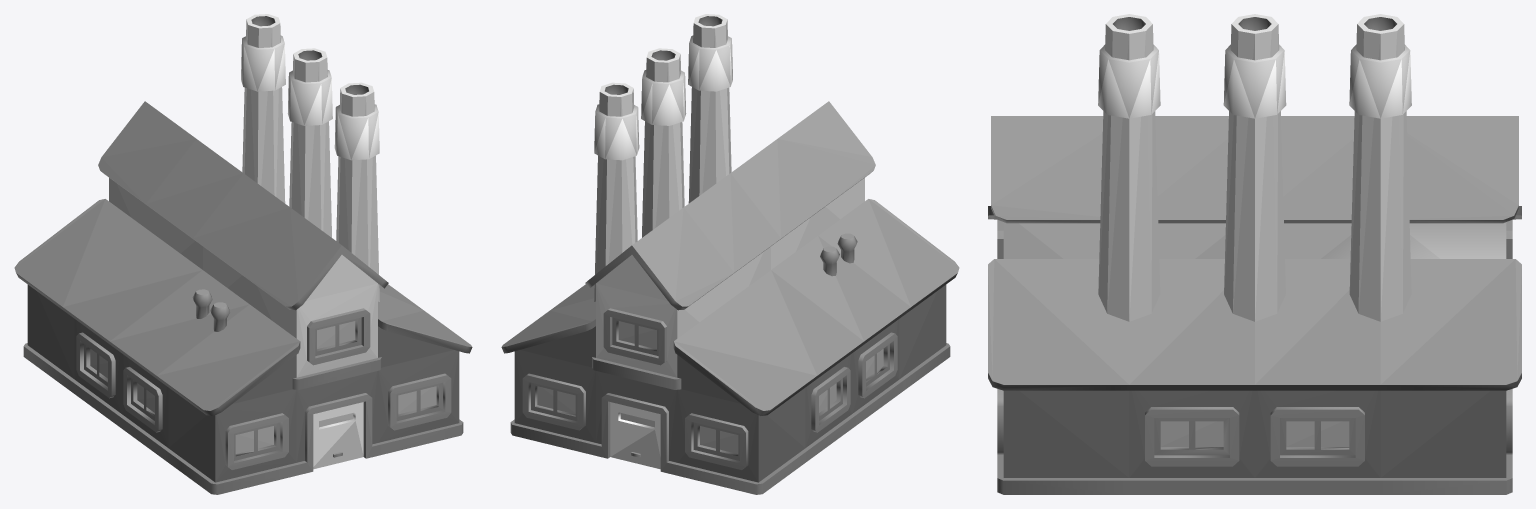
The model's file is slag_refinery.glb.
The picture shows the model from 3 angles, left to right: view 1: azimuth 30°, elevation 25°; view 2: azimuth 150°, elevation 25°; view 3: azimuth 270°, elevation 25°; orthographic projection. The views are drawn at different scales.
Parts seen in each view (by area): view 1: Body; view 2: Body; view 3: Body.
Boxes of the visible parts, x1,y1,x2,y2 form: Body: (14,14,472,494); Body: (501,14,959,494); Body: (988,14,1521,494).
Bounding box in the file's own units: 13.94 × 16.08 × 18.
2 materials, 1 textured.
